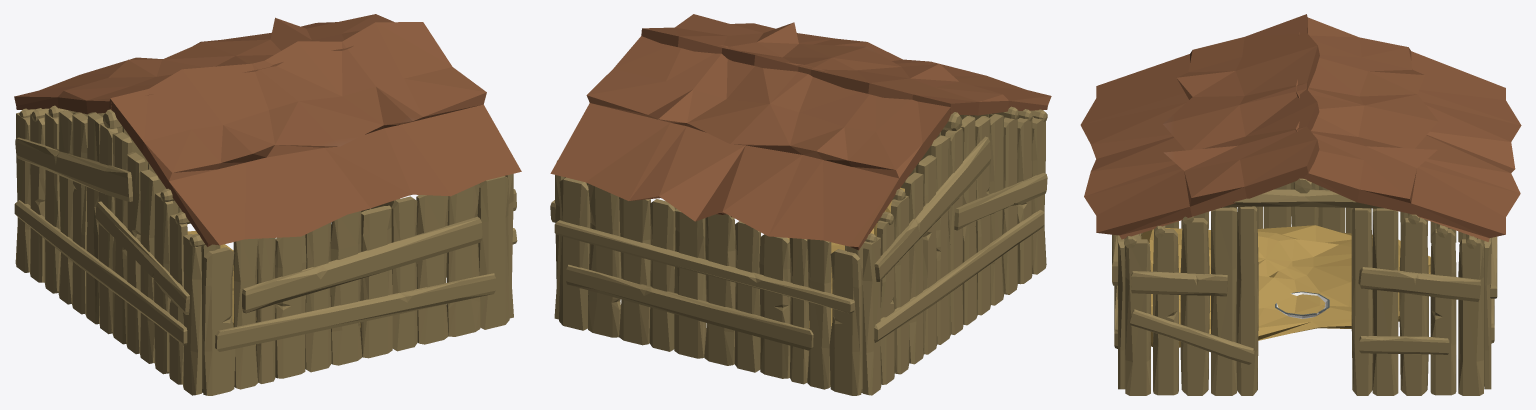
3 views of the same model, side by side, from view 1: azimuth 30°, elevation 25°; view 2: azimuth 150°, elevation 25°; view 3: azimuth 270°, elevation 25° (orthographic).
Visible parts, largest first — view 1: 狗窝_1; view 2: 狗窝_1; view 3: 狗窝_1.
Boxes of the visible parts, left/top/right/bottom form: 狗窝_1: left=14, top=14, right=521, bottom=395; 狗窝_1: left=550, top=14, right=1051, bottom=395; 狗窝_1: left=1080, top=14, right=1521, bottom=395.
Size of the model in its own units: 218 by 151 by 254.
